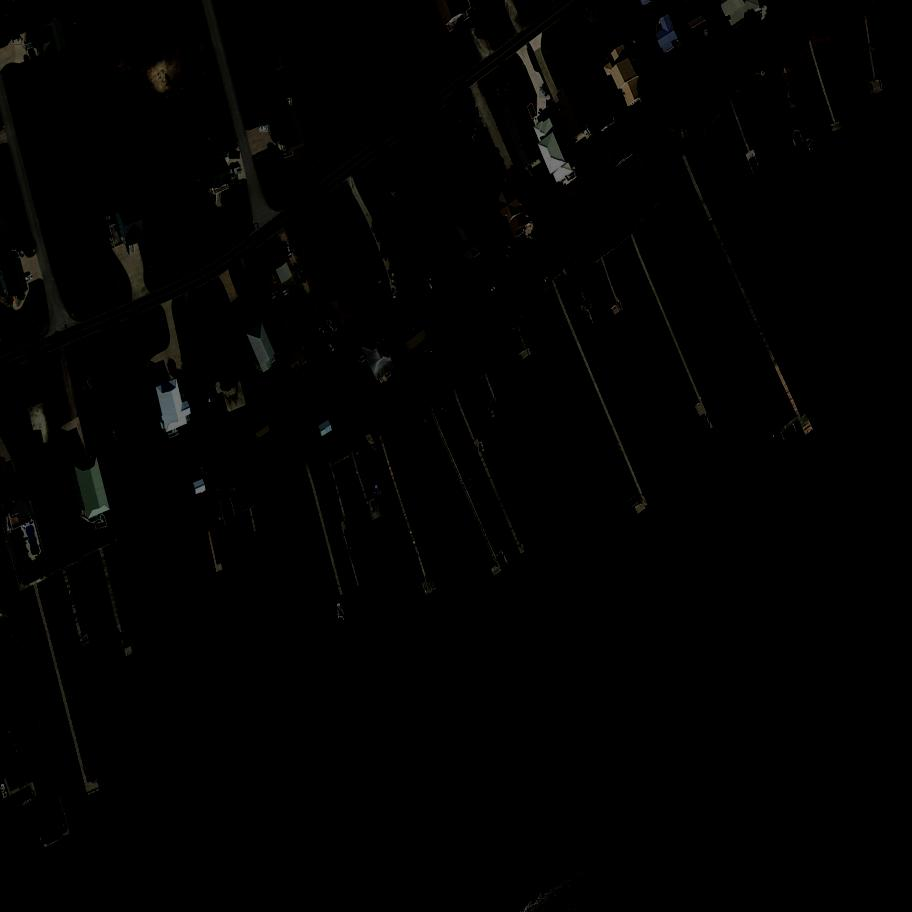ship: (323, 317, 342, 337), (484, 402, 500, 422), (425, 276, 440, 294), (295, 266, 308, 284), (372, 486, 383, 501), (199, 463, 208, 477), (9, 634, 17, 648), (267, 293, 279, 302), (479, 439, 487, 452), (337, 603, 343, 620), (307, 426, 313, 434)
small-vehicle: (324, 339, 339, 354), (539, 86, 551, 98), (546, 101, 555, 115), (259, 125, 271, 133), (230, 167, 242, 175), (229, 152, 241, 160), (230, 174, 239, 184), (392, 289, 400, 300), (286, 246, 293, 257), (13, 39, 22, 45), (392, 272, 395, 284)
